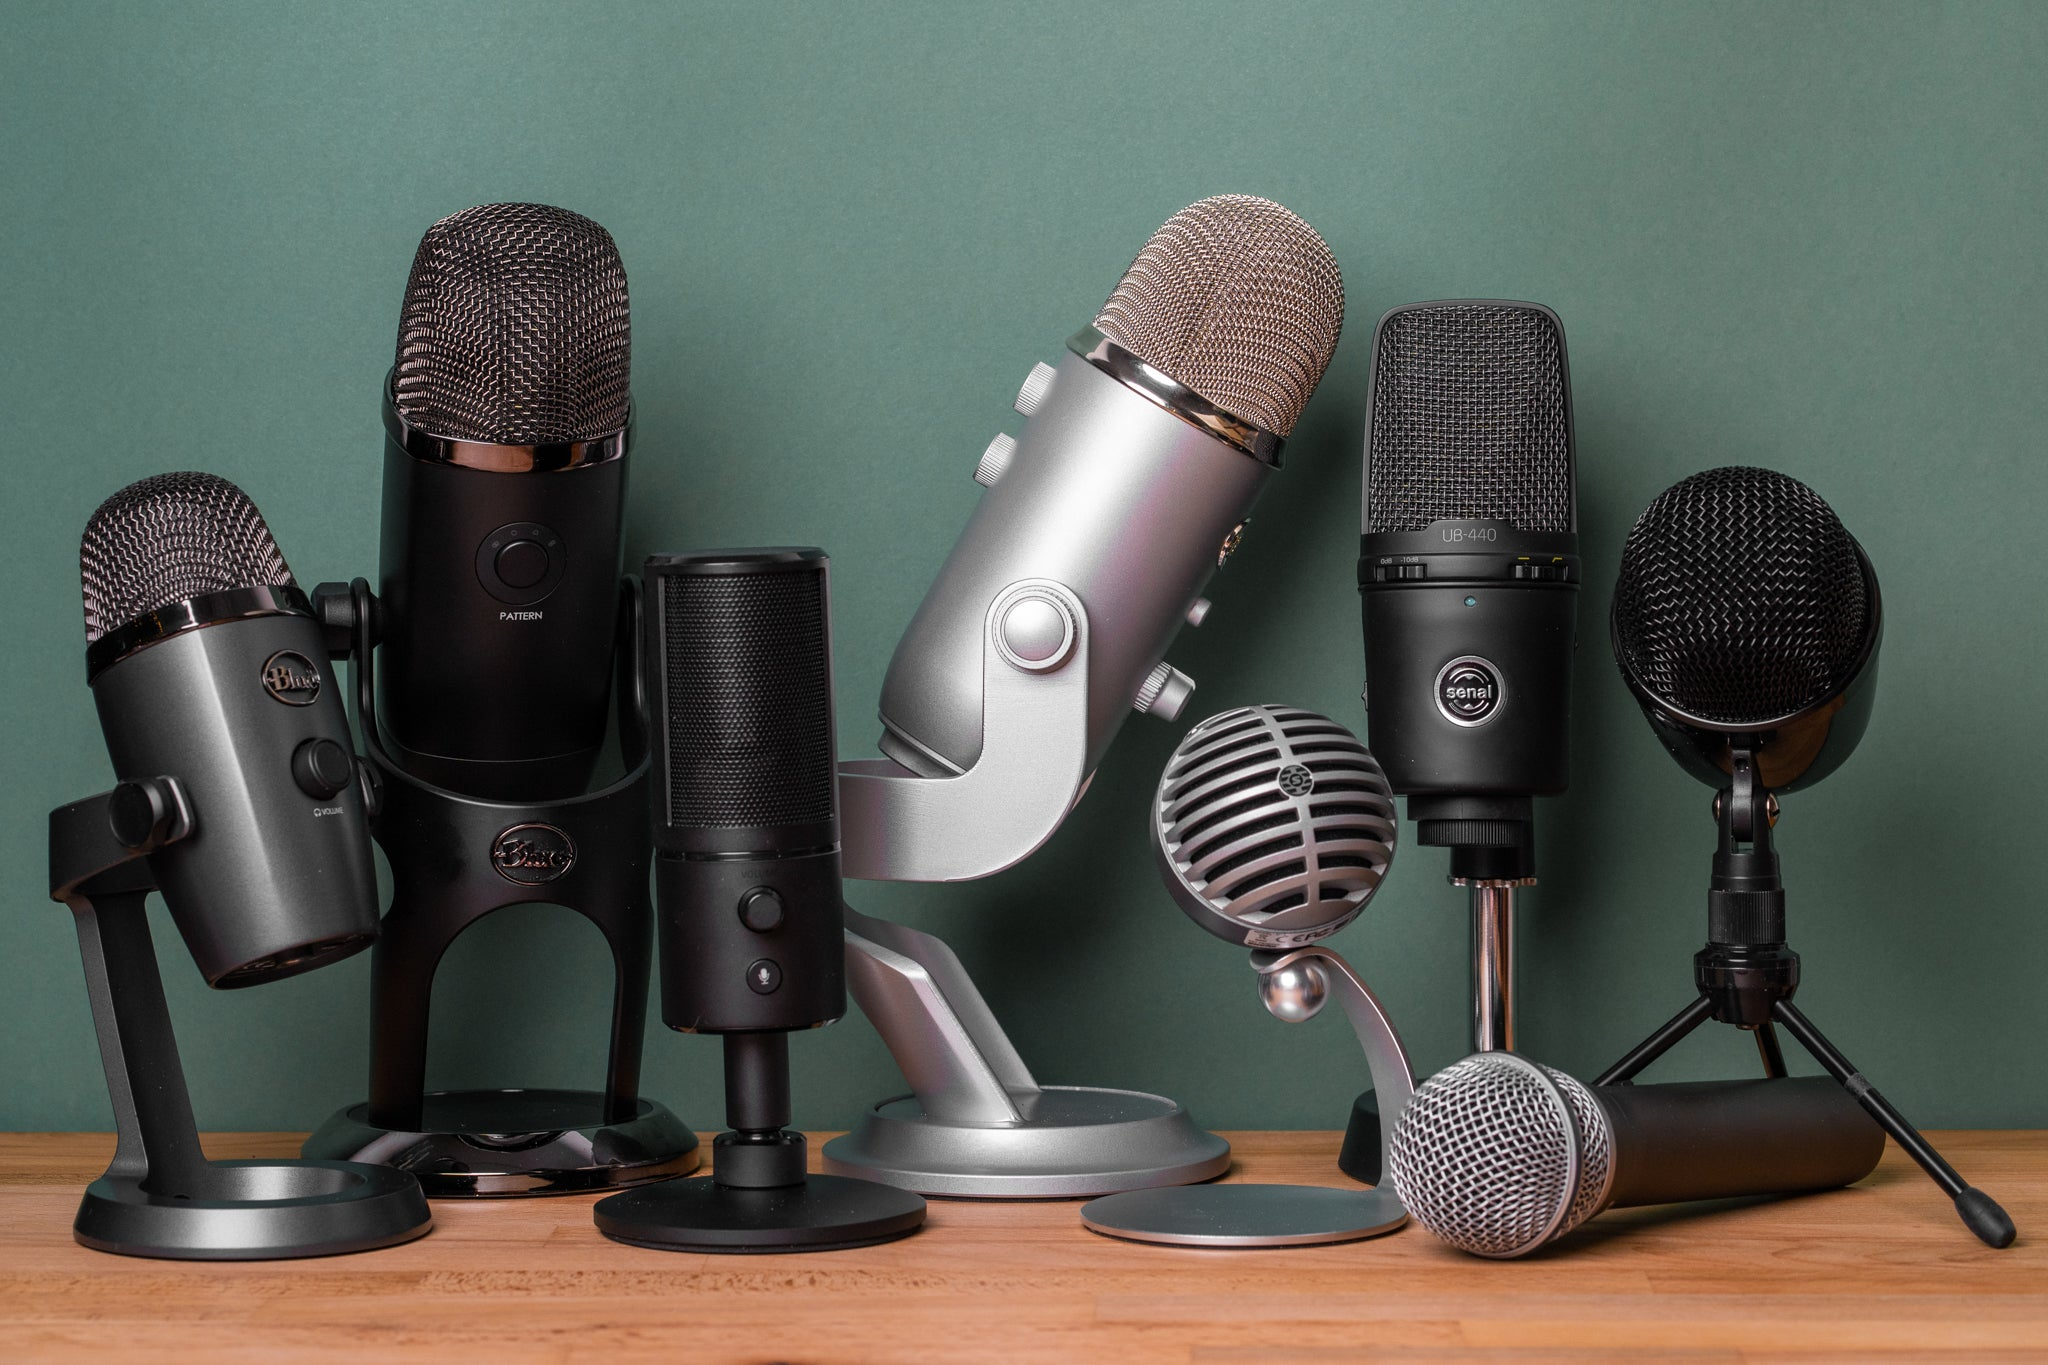microphone: (821, 189, 1349, 1205), (311, 198, 707, 1202), (43, 468, 439, 1267), (594, 542, 932, 1258), (1077, 696, 1431, 1246), (1606, 463, 1890, 1033), (1354, 292, 1584, 852), (1389, 1044, 1893, 1266)
